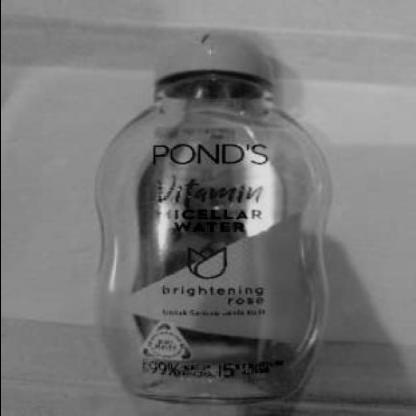objects: (103, 32, 335, 416)
